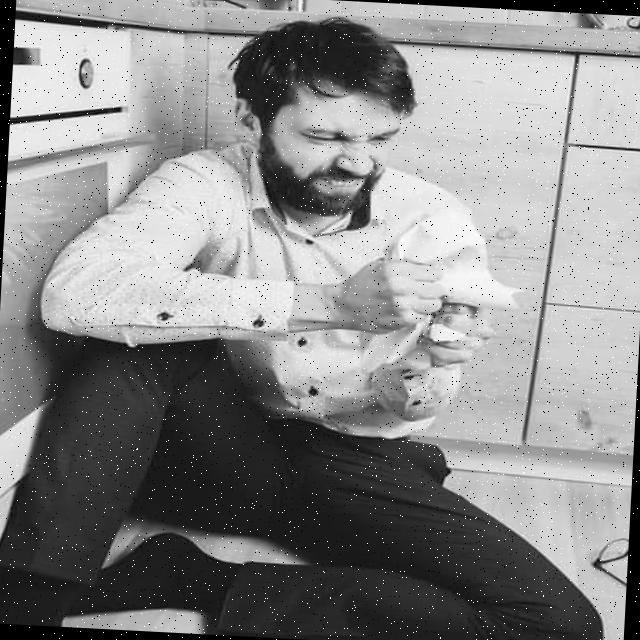Angry: (257, 79, 402, 219)
